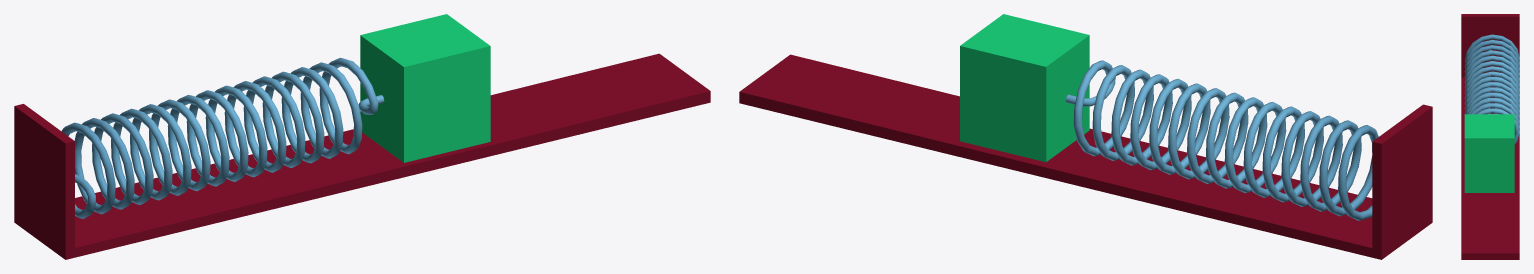
File: spring.glb
The picture shows the model from 3 angles, left to right: view 1: azimuth 30°, elevation 25°; view 2: azimuth 150°, elevation 25°; view 3: azimuth 270°, elevation 25°; orthographic projection. The views are drawn at different scales.
Visible parts, largest first — view 1: stand, spring, box; view 2: stand, spring, box; view 3: stand, spring, box.
Boxes of the visible parts, <box> form: stand: <box>14,53,710,259</box>; spring: <box>61,57,384,218</box>; box: <box>360,14,490,162</box>; stand: <box>739,54,1432,259</box>; spring: <box>1066,60,1378,220</box>; box: <box>960,14,1089,161</box>; stand: <box>1461,14,1519,259</box>; spring: <box>1464,34,1519,144</box>; box: <box>1464,114,1514,192</box>.
Bounding box in the file's own units: 17 × 2.93 × 2.34.
Materials: 1 (1 with a texture image).
